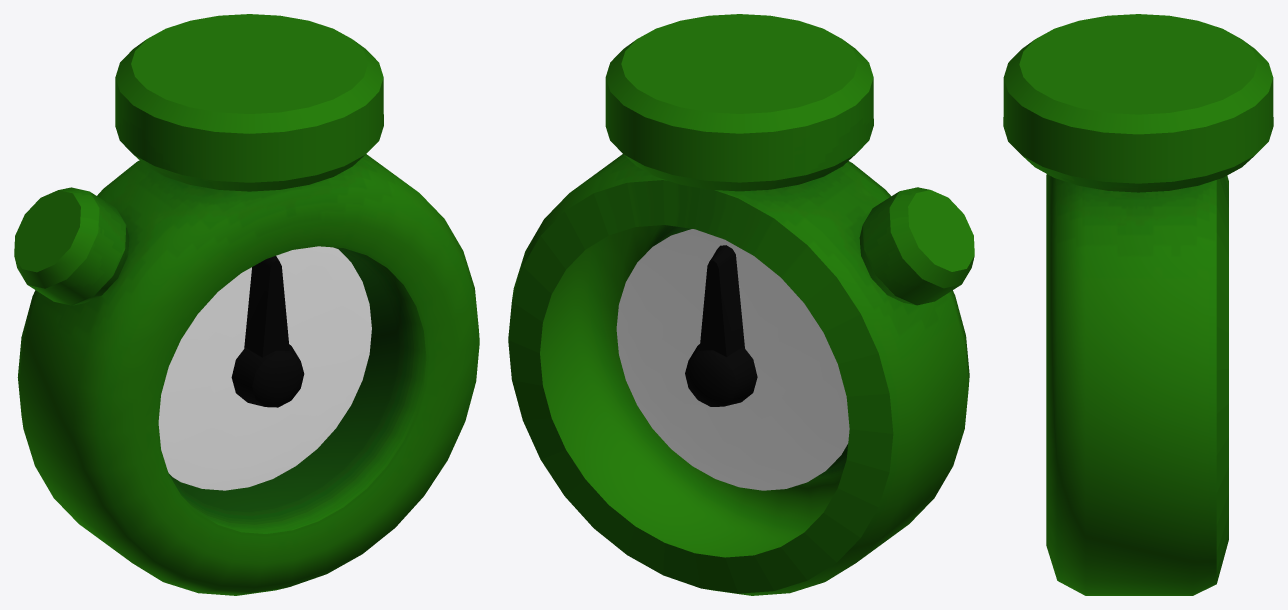
Rendered from clock-green-30s.glb.
The picture shows the model from 3 angles, left to right: view 1: azimuth 30°, elevation 25°; view 2: azimuth 150°, elevation 25°; view 3: azimuth 270°, elevation 25°; orthographic projection.
Visible parts, largest first — view 1: clock-blue-60s; view 2: clock-blue-60s; view 3: clock-blue-60s.
Boxes of the visible parts, left/top/right/bottom form: clock-blue-60s: left=14, top=14, right=479, bottom=595; clock-blue-60s: left=508, top=14, right=974, bottom=595; clock-blue-60s: left=1003, top=14, right=1273, bottom=595.
Size of the model in its own units: 3.24 by 3.65 by 1.75.
Materials: 5 (5 with a texture image).
